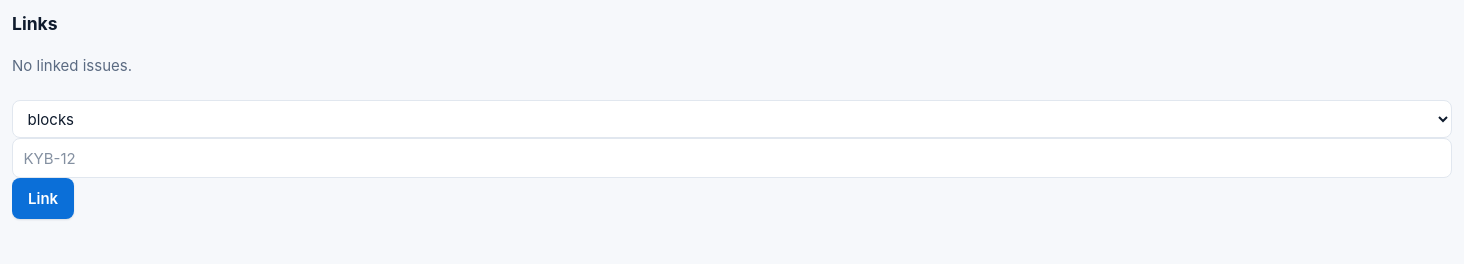
Scenario: IssueLinks (KYB-S45) › shows a refused link
This screenshot has width=1464, height=264.
expect the text "No linked issues." is shown: met, box x1=12 y1=56 x2=132 y2=75
Type "KYB-1" into the field named "Issue key to link" at (732, 158), box x1=12 y1=138 x2=1452 y2=178
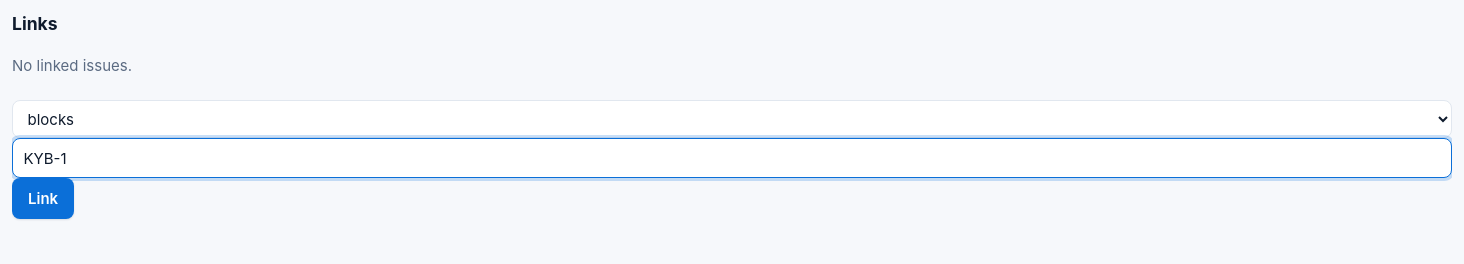
Click the button "Link" at (43, 198), box x1=12 y1=178 x2=74 y2=219
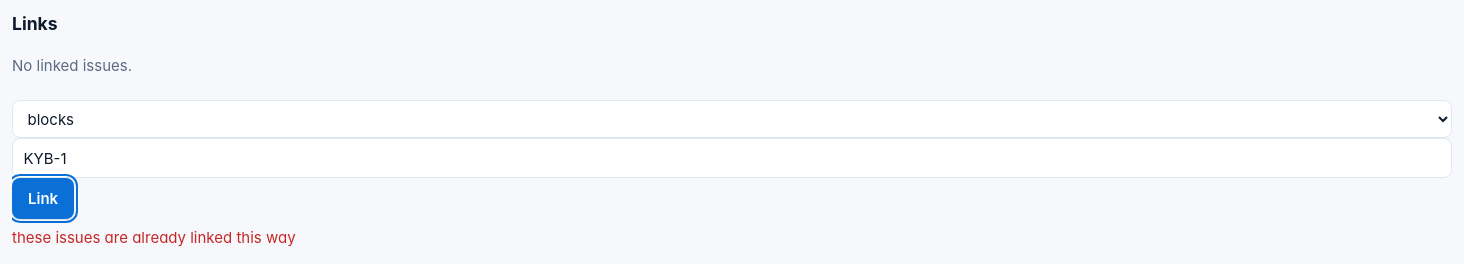
expect the message shows "already linked": met, box x1=12 y1=228 x2=296 y2=247
